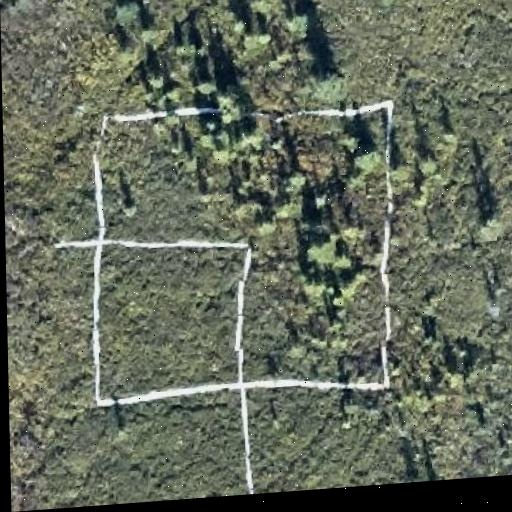tree-top: (230, 121, 270, 162), (205, 84, 246, 120), (301, 231, 337, 270), (316, 53, 352, 89), (473, 208, 508, 244), (284, 2, 318, 37), (243, 0, 277, 35), (234, 191, 265, 227), (301, 271, 334, 303), (243, 19, 276, 49), (352, 142, 382, 173), (270, 191, 299, 221), (282, 167, 311, 196), (136, 13, 164, 41), (111, 0, 141, 24), (339, 127, 364, 155), (195, 72, 221, 98), (308, 185, 332, 210), (145, 67, 169, 91), (174, 35, 198, 59), (247, 0, 280, 17), (446, 362, 470, 385), (448, 337, 471, 360), (391, 154, 413, 178), (418, 150, 438, 171), (123, 196, 141, 215), (403, 469, 425, 482), (373, 0, 398, 4)
